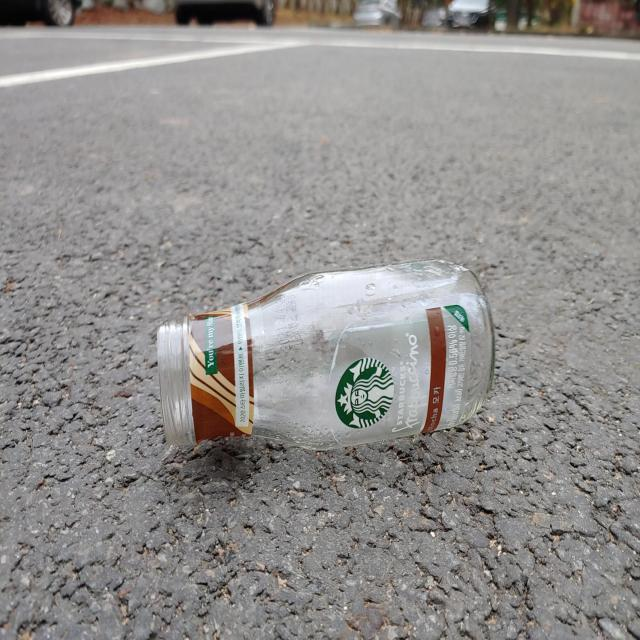glass: (157, 260, 495, 449)
